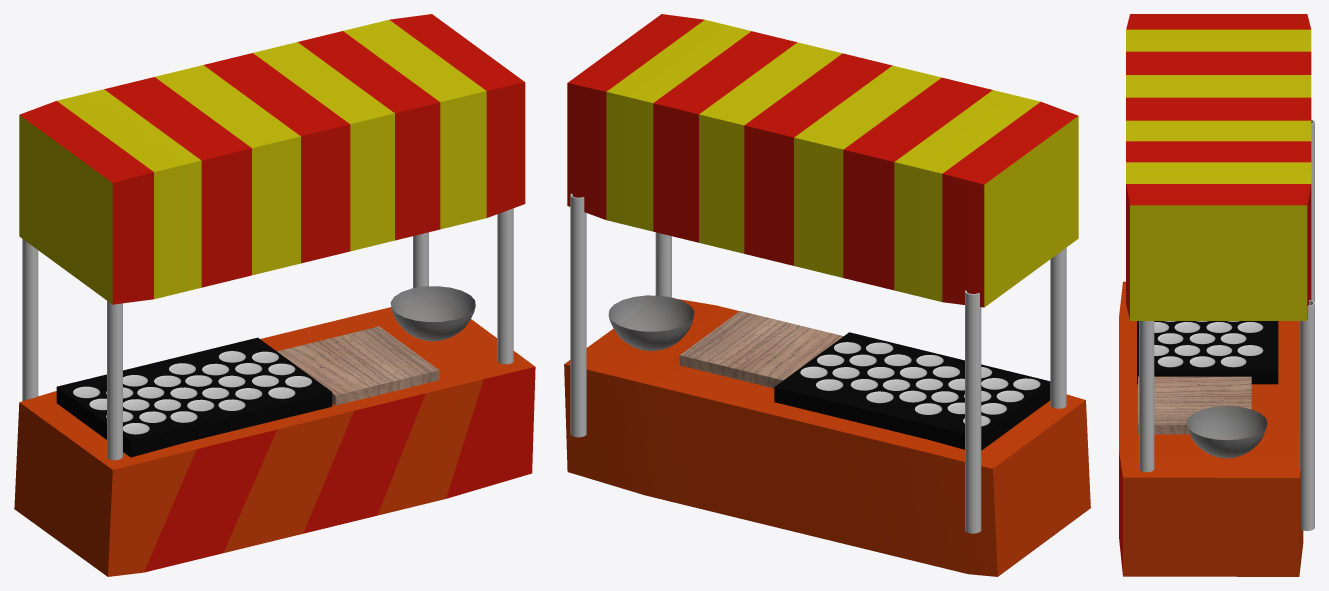
File: Store_festival.fbx
3 renders of one model, left to right at view 1: azimuth 30°, elevation 25°; view 2: azimuth 150°, elevation 25°; view 3: azimuth 270°, elevation 25°, orthographic. The views are drawn at different scales.
Parts seen in each view (by area): view 1: obj1, obj3, obj4, obj2, obj12, obj13, obj10, obj11, obj9; view 2: obj1, obj3, obj4, obj2, obj12, obj13, obj11, obj10, obj9; view 3: obj1, obj3, obj2, obj4, obj12, obj13, obj11, obj10.
Boxes of the visible parts, x1,y1,x2,y2 form: obj1: [19, 14, 525, 304]; obj3: [14, 307, 535, 576]; obj4: [56, 337, 332, 457]; obj2: [22, 208, 513, 460]; obj12: [277, 326, 439, 405]; obj13: [390, 286, 475, 341]; obj10: [169, 363, 262, 410]; obj11: [218, 351, 312, 398]; obj9: [123, 375, 214, 422]; obj1: [567, 14, 1078, 307]; obj3: [564, 299, 1090, 576]; obj4: [774, 332, 1050, 450]; obj2: [570, 193, 1066, 533]; obj12: [679, 311, 843, 388]; obj13: [608, 295, 694, 350]; obj11: [800, 342, 893, 390]; obj10: [850, 354, 943, 403]; obj9: [899, 366, 992, 414]; obj1: [1126, 14, 1311, 320]; obj3: [1119, 281, 1303, 576]; obj2: [1139, 119, 1314, 530]; obj4: [1137, 321, 1278, 384]; obj12: [1138, 376, 1251, 434]; obj13: [1186, 406, 1267, 458]; obj11: [1154, 345, 1263, 367]; obj10: [1154, 322, 1263, 344].
Bounding box in the file's own units: 256 × 225 × 107.
